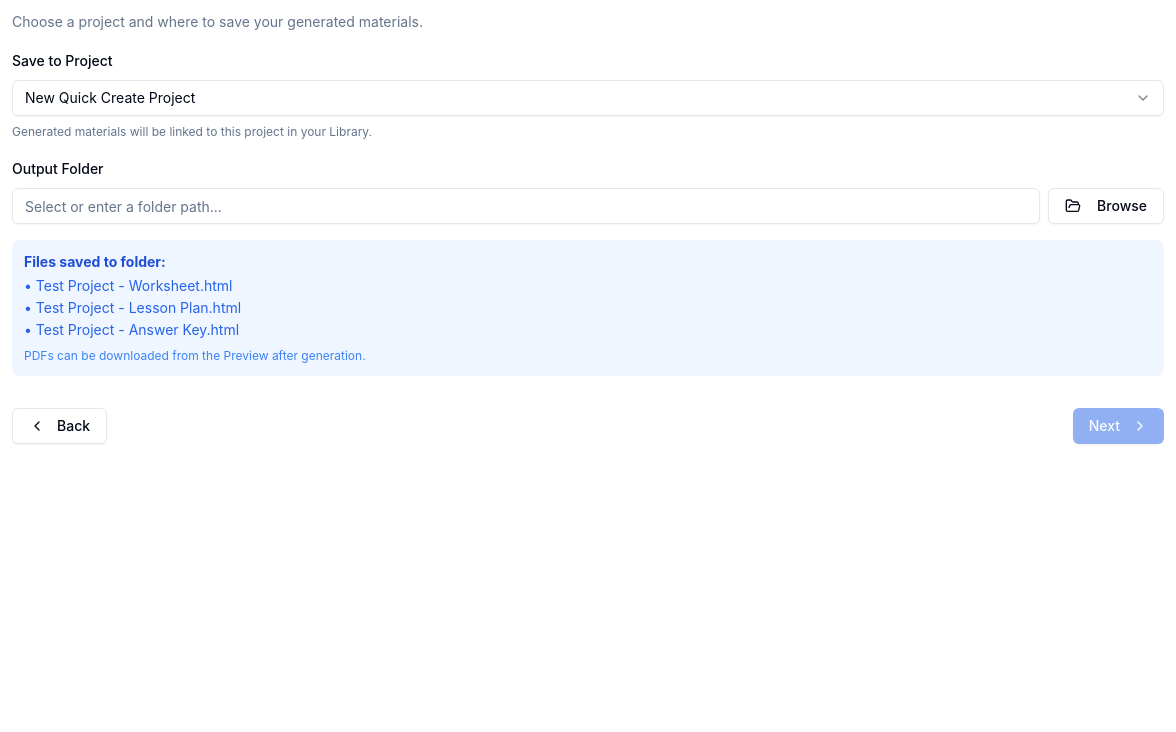
Test: OutputStep › output folder › shows file save preview when path is entered
The width and height of the screenshot is (1176, 732).
Type "C:\\Documents\\Output" into the field with placeholder "Select or enter a folder path..." at (526, 206), box [12, 188, 1040, 224]
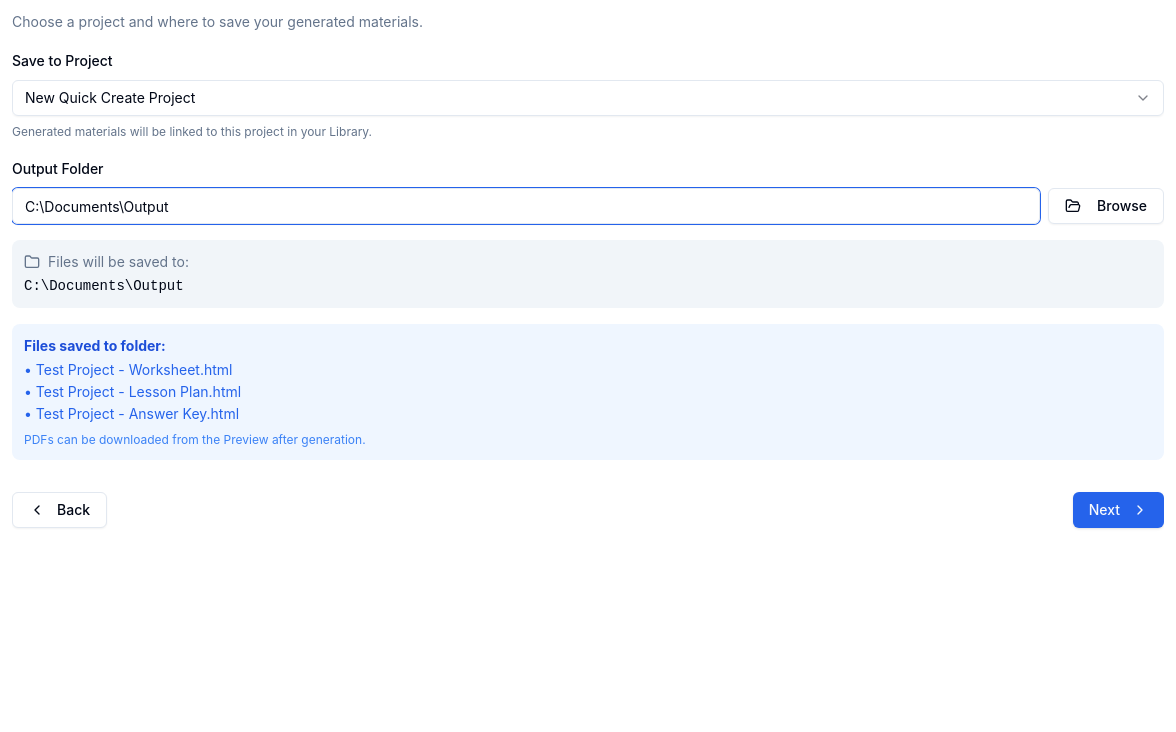
Expected: the text "Files will be saved to:" is shown, [48, 252, 189, 272]
Expected: the text "C:\\Documents\\Output" is shown, [24, 278, 184, 294]
